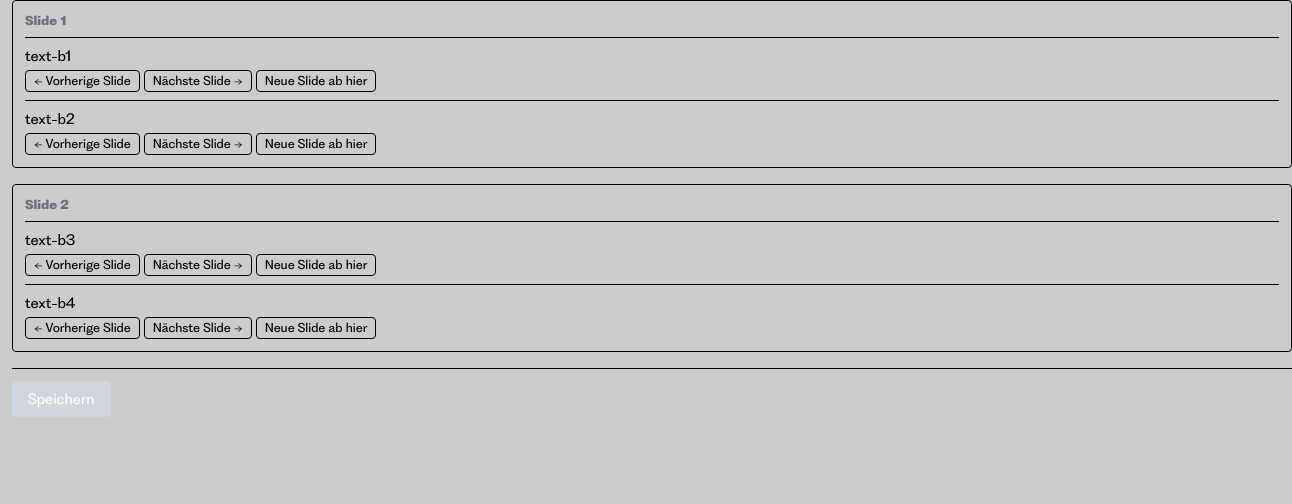
it: LayoutEditor › C-8: Save 409 → content_changed banner + save disabled
Expected: the text "text-b1" is shown, 25,47 -> 71,65
Click the button "Nächste Slide →" below "text-b1" at (198, 81), box 144,70 -> 252,92
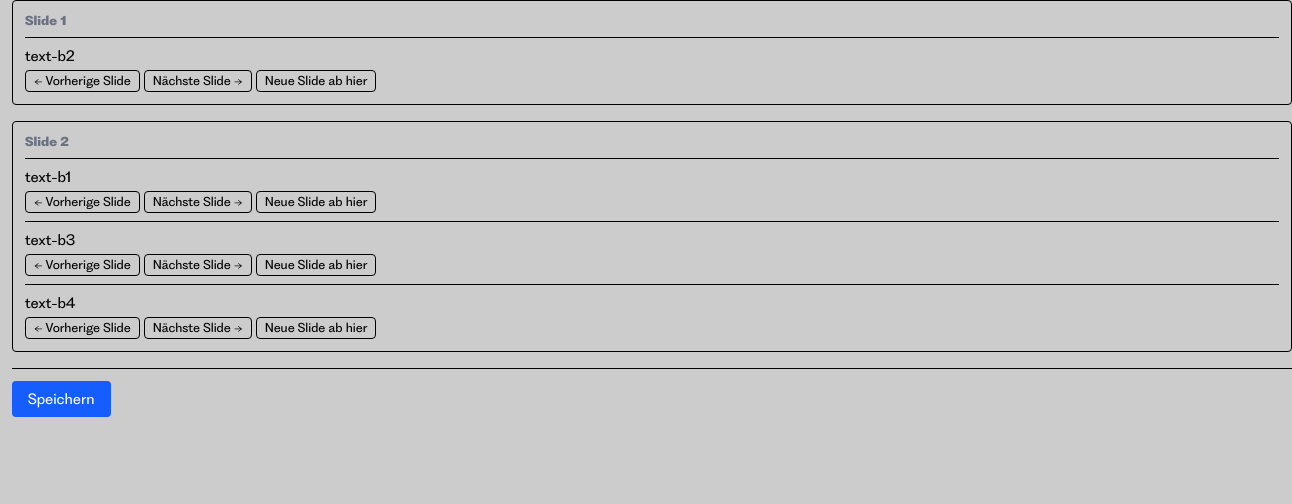
Now the button "Speichern" is enabled
Click the button "Speichern" at (61, 399), box 12,381 -> 110,417
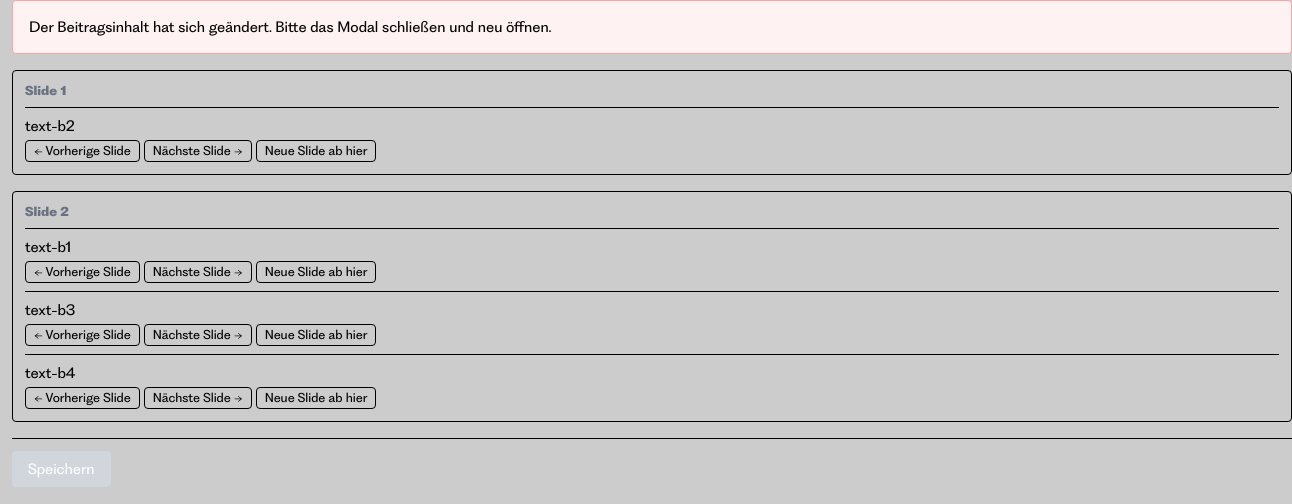
Now the text "Der Beitragsinhalt hat sich geändert" is shown, box 29,18 -> 552,36
Now the button "Speichern" is disabled, box 12,451 -> 110,487
